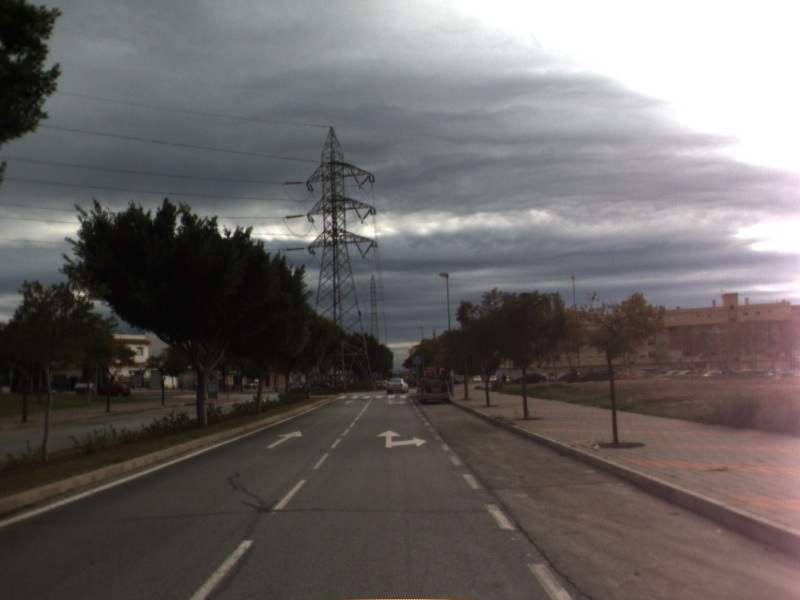STRAIGHT: (263, 428, 304, 450)
STRAIGHT_RIGHT: (374, 428, 430, 450)
